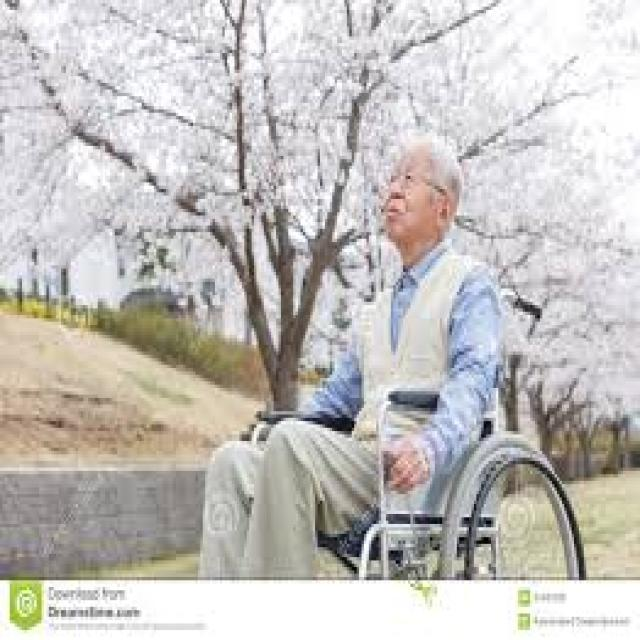wheelchairs: (227, 265, 591, 577)
